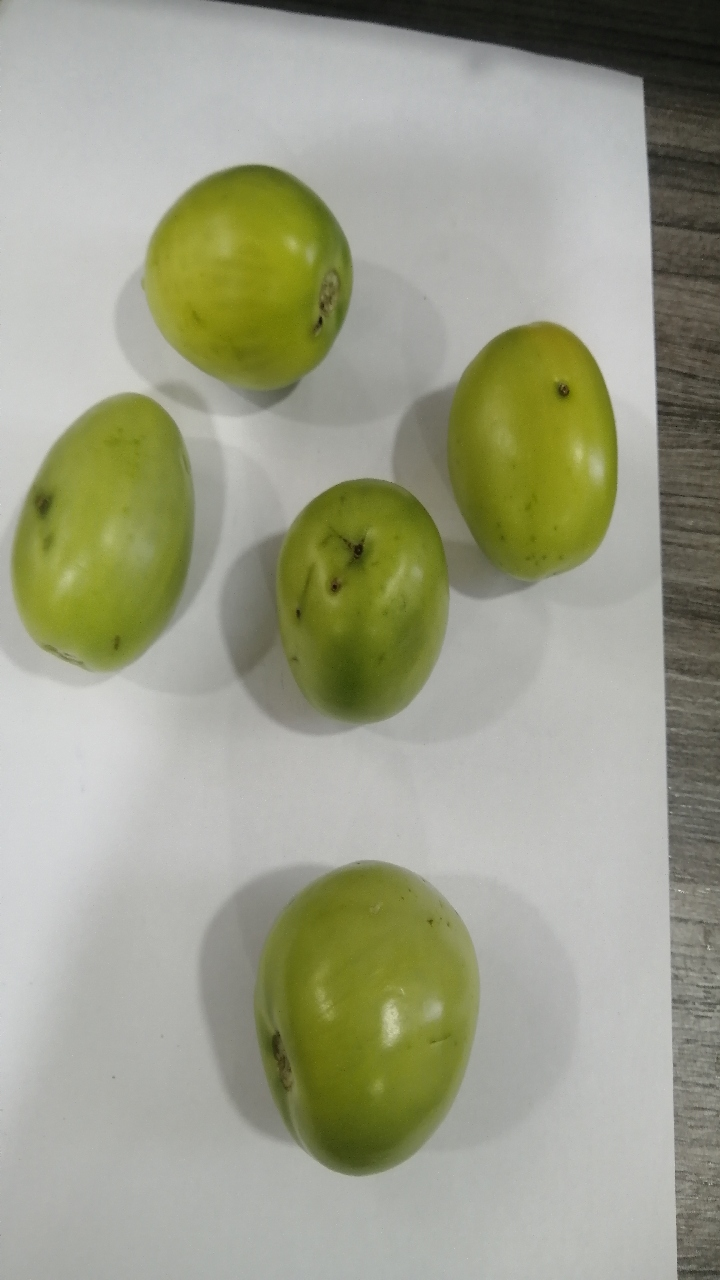tomateVerde: (220, 832, 489, 1191), (3, 375, 218, 723), (115, 145, 392, 412), (254, 457, 471, 774), (417, 295, 629, 592)
